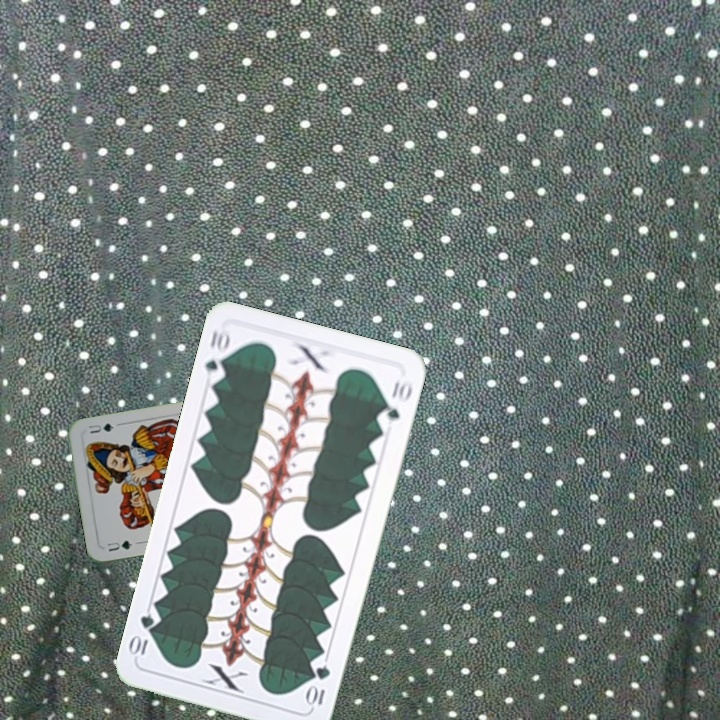G10: (201, 324, 233, 385), (304, 661, 333, 710)
GU: (103, 536, 135, 554)
